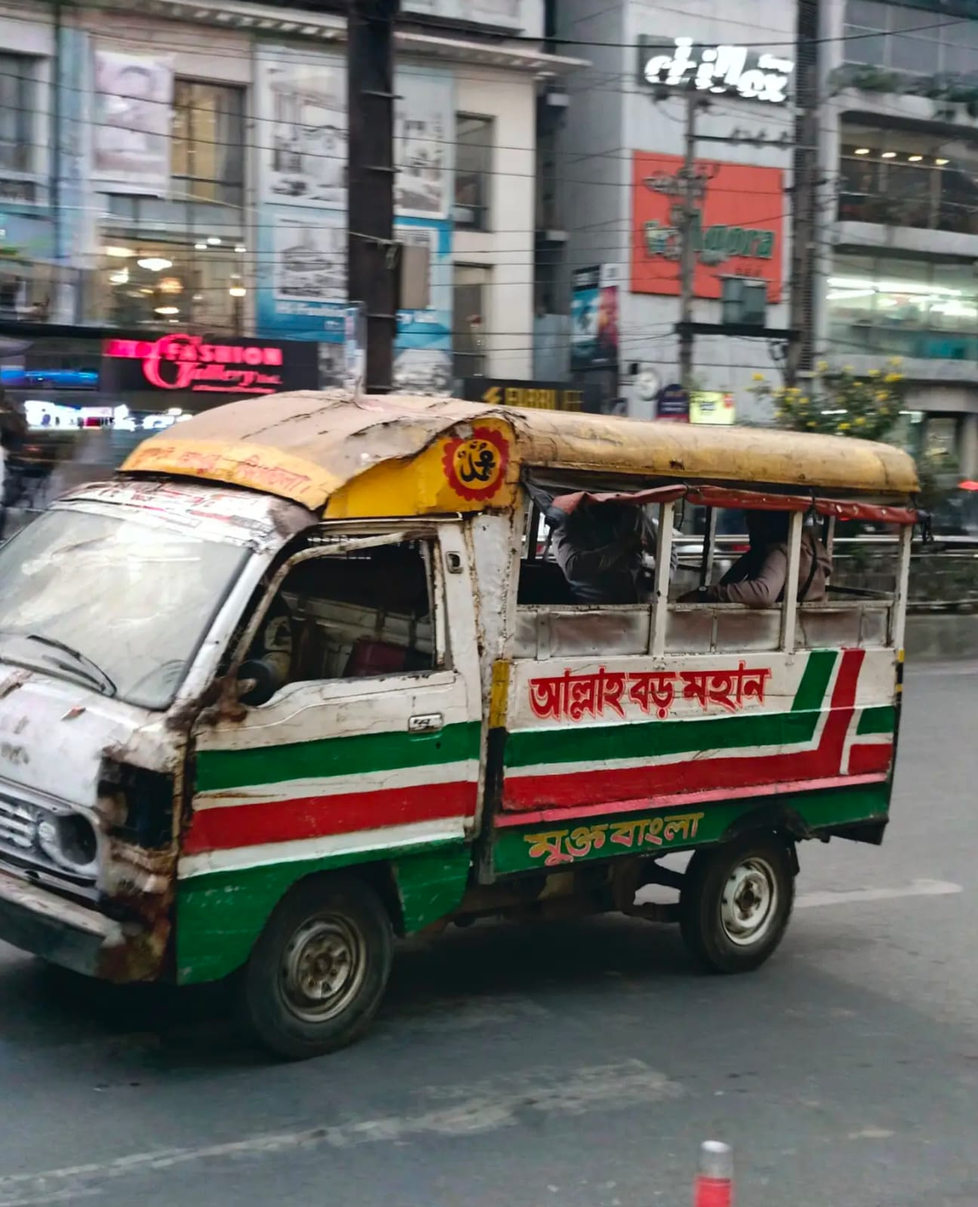Leguna: (0, 382, 921, 1068)
